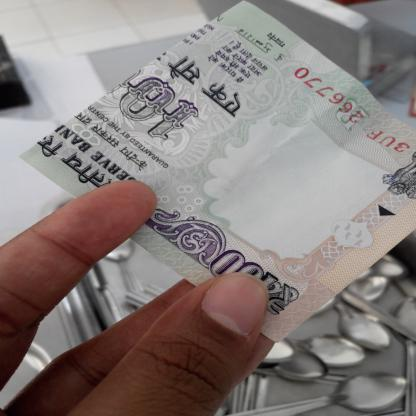Old100Front: (20, 0, 416, 344)
